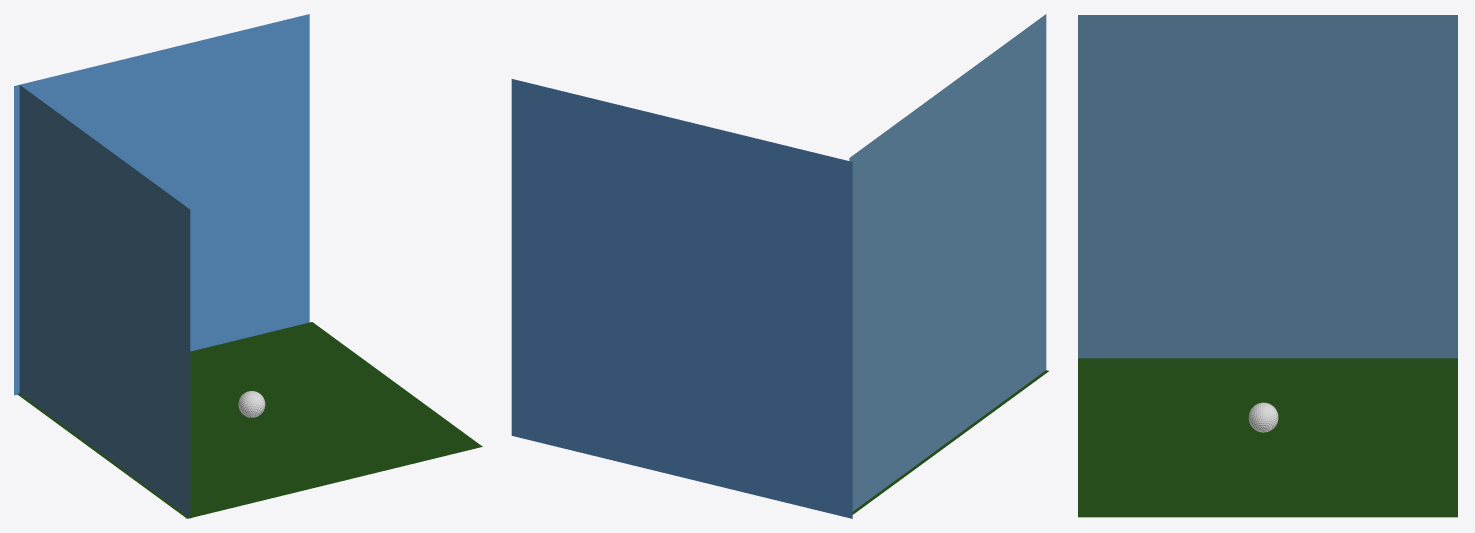
File: golfball.glb
The picture shows the model from 3 angles, left to right: view 1: azimuth 30°, elevation 25°; view 2: azimuth 150°, elevation 25°; view 3: azimuth 270°, elevation 25°; orthographic projection. The views are drawn at different scales.
Visible parts, largest first — view 1: Plane.002, Plane.001, Plane, Icosphere; view 2: Plane.002, Plane.001, Plane; view 3: Plane.001, Plane, Icosphere.
Part boxes in pixels (left/top/right/bottom): Plane.002: left=14, top=14, right=309, bottom=395; Plane.001: left=19, top=85, right=190, bottom=518; Plane: left=17, top=322, right=482, bottom=518; Icosphere: left=238, top=391, right=265, bottom=417; Plane.002: left=511, top=79, right=852, bottom=518; Plane.001: left=849, top=14, right=1046, bottom=511; Plane: left=852, top=370, right=1048, bottom=514; Plane.001: left=1078, top=15, right=1457, bottom=358; Plane: left=1078, top=358, right=1457, bottom=517; Icosphere: left=1248, top=402, right=1278, bottom=432.
Bounding box in the file's own units: 2.01 × 2.01 × 2.01.
